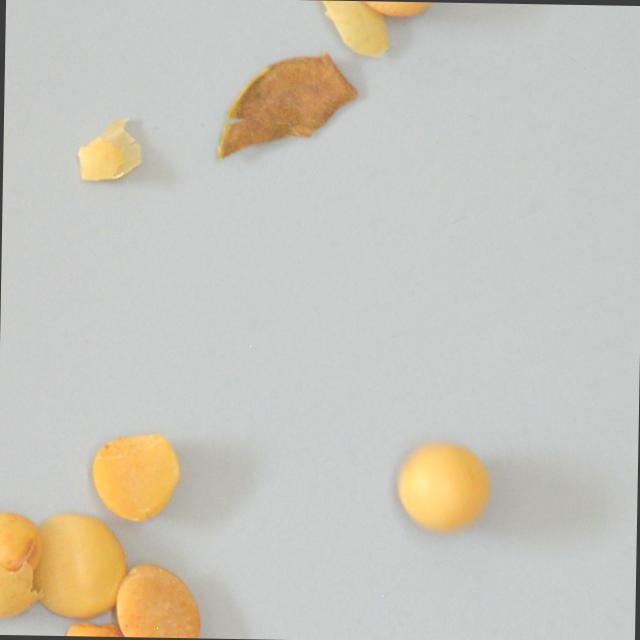cuerpos_extranos: (219, 49, 361, 166), (25, 506, 128, 618), (391, 432, 493, 539), (87, 426, 186, 523), (111, 557, 203, 638), (311, 0, 399, 61), (71, 113, 145, 184), (0, 509, 46, 617), (64, 608, 138, 637), (342, 0, 443, 17)
